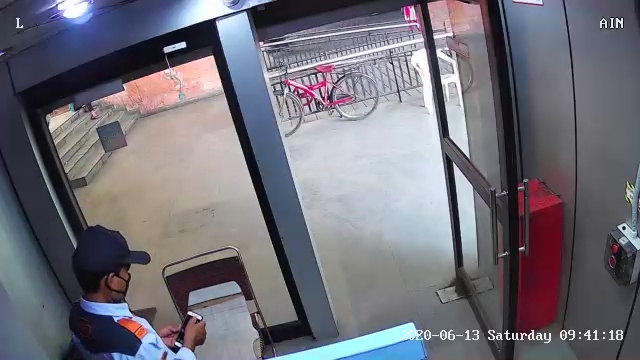open: (396, 2, 563, 357)
